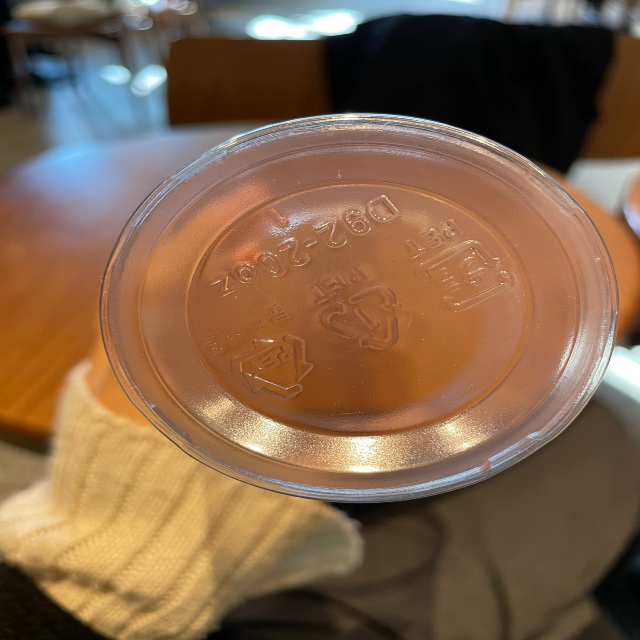pet: (196, 297, 317, 403), (402, 213, 519, 317), (305, 264, 409, 354)
